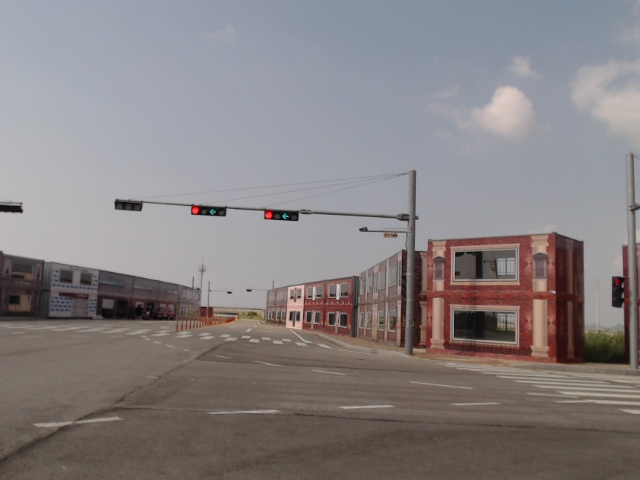left_green_4: (192, 207, 226, 217), (265, 211, 299, 221)
